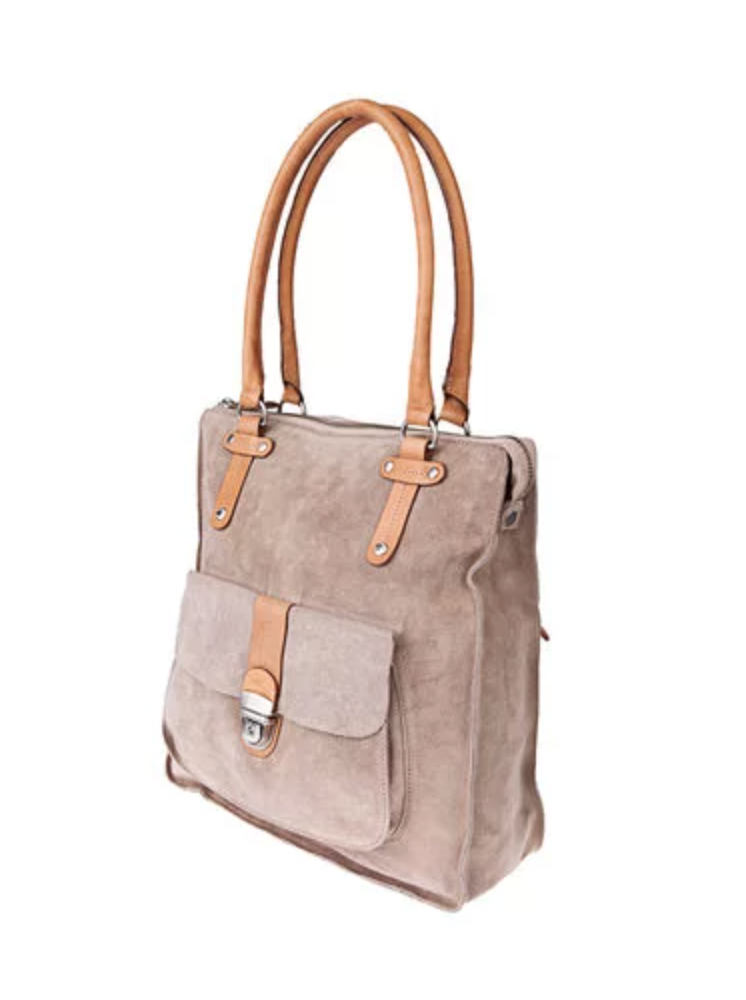cartera: (93, 59, 603, 936)
gamuza: (254, 573, 459, 773)
